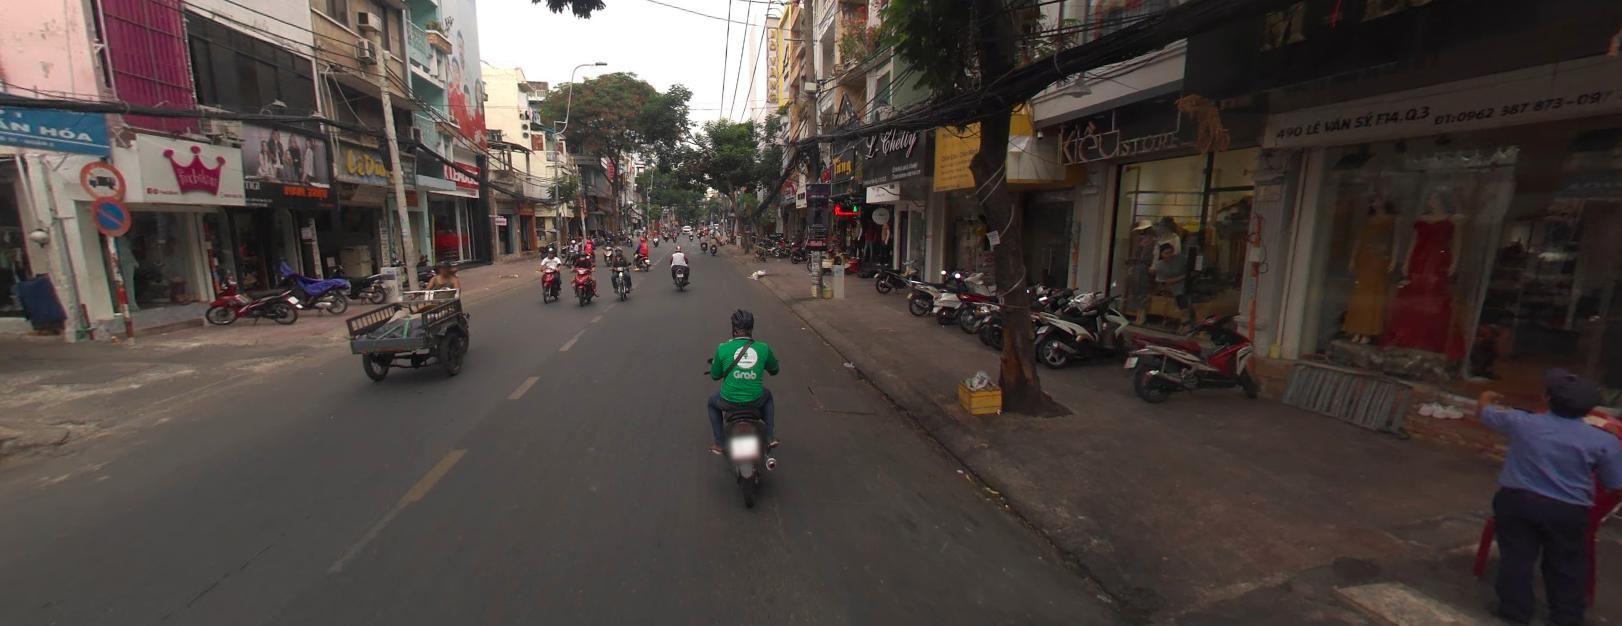Cam con lai: (76, 159, 134, 198)
Cam nguoc chieu: (89, 201, 131, 237)
